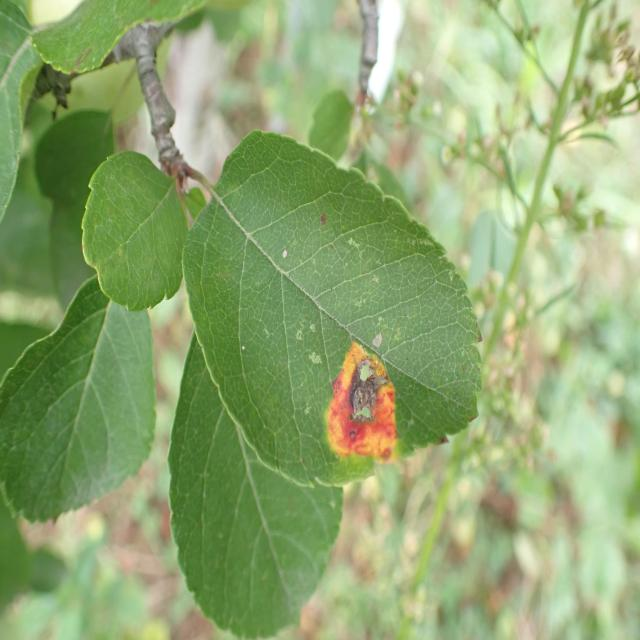rust: (181, 128, 484, 490)
